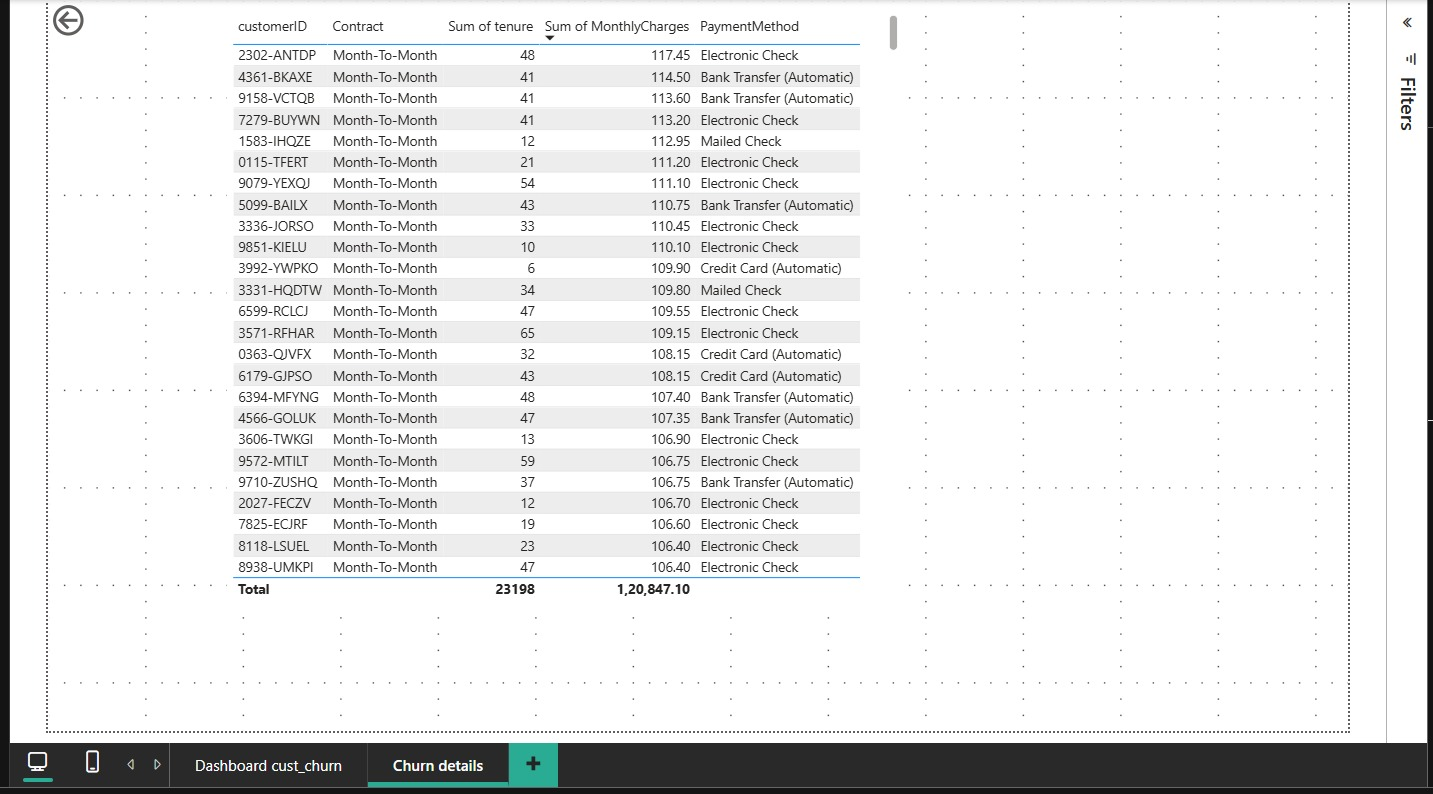

The page's visual inventory and layout, read from the dashboard file:
{"tool":"powerbi","page":{"name":"Churn details","canvas":[1280,720],"ordinal":1},"visuals":[{"type":"tableEx","fields":{"Values":["Telco-Customer-Churn.customerID","Telco-Customer-Churn.Contract","Sum(Telco-Customer-Churn.tenure)","Sum(Telco-Customer-Churn.MonthlyCharges)","Telco-Customer-Churn.PaymentMethod"]},"box":[176,9.8,665.8,584.6],"z":0},{"type":"actionButton","box":[0,0,100,40],"z":1000}]}

Visuals, with their boxes on the page's 1280x720 design canvas (x1, y1, x2, y2). These are canvas units, not pixel positions in the 1433x794 screenshot, which may show the page scaled, cropped or inside an application window:
tableEx - Telco-Customer-Churn.customerID x Telco-Customer-Churn.Contract: x1=176, y1=10, x2=842, y2=594
actionButton: x1=0, y1=0, x2=100, y2=40
